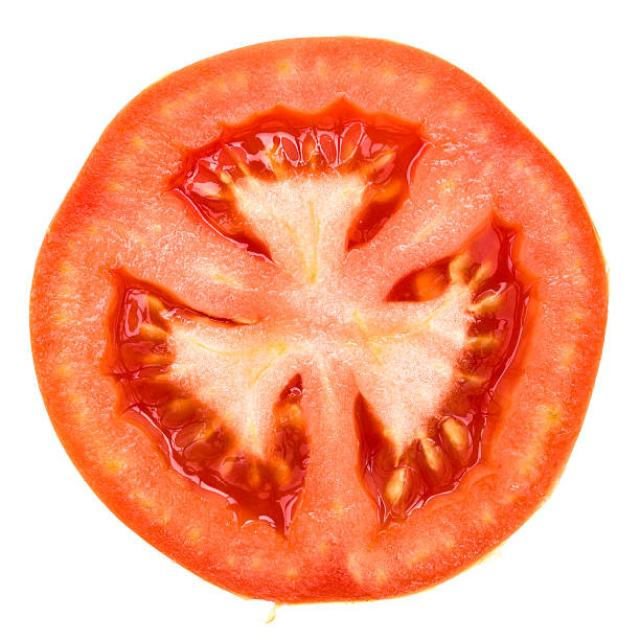Tomato: (33, 36, 614, 621)
